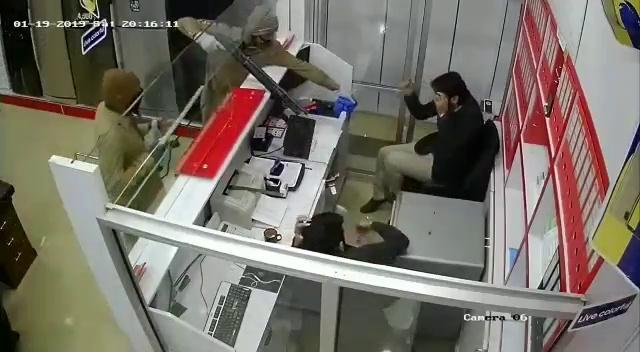weapon: (210, 30, 309, 117)
